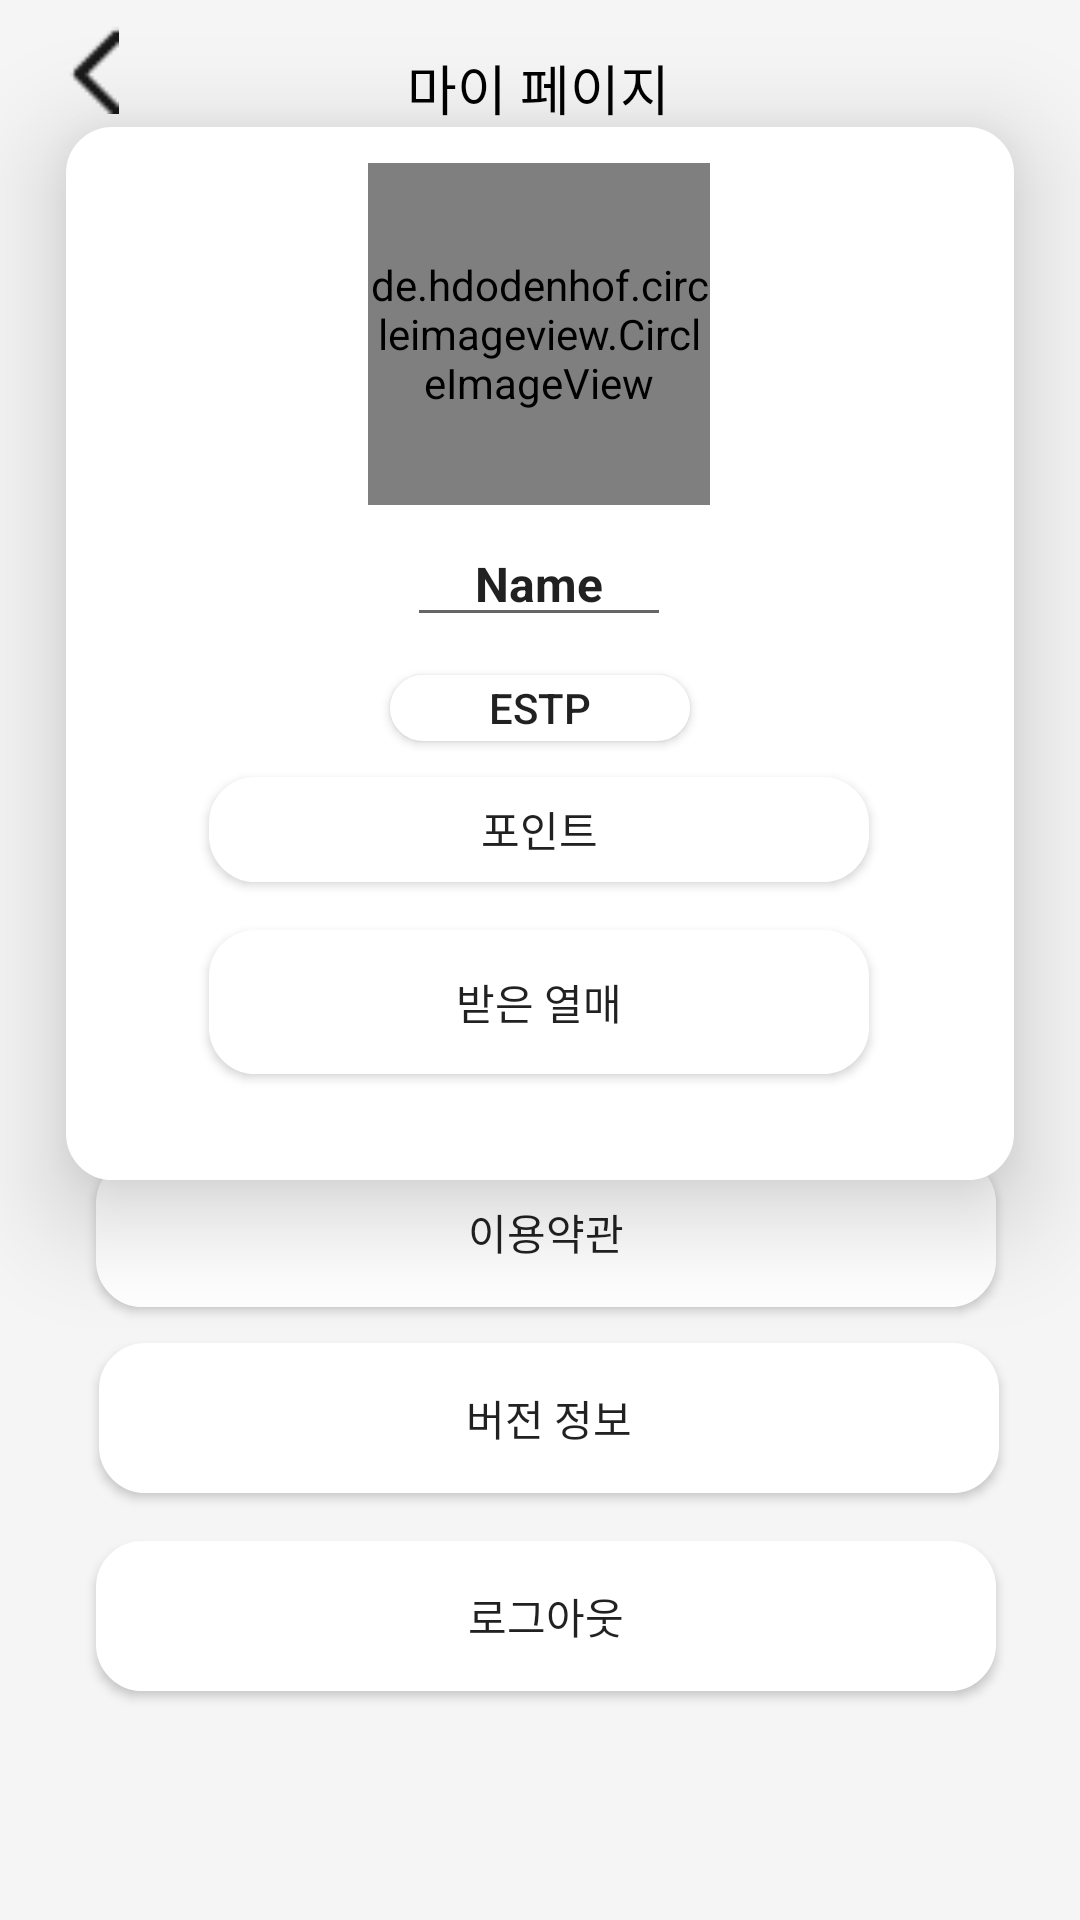

Point at icon controls on the screen. Image size 1080px x 1920px, points as (x,y).
back: (95,71)
